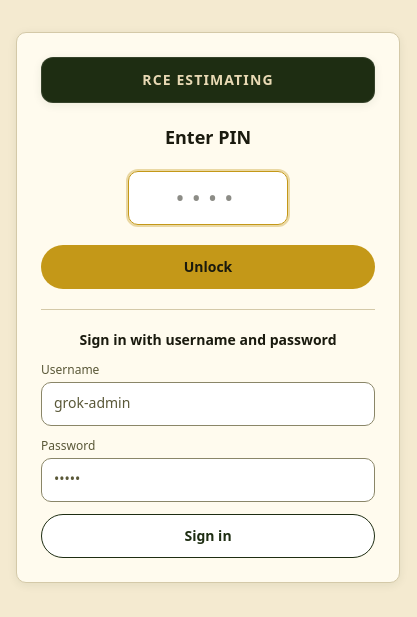
PinLoginPage: sign in with username and password (the AI admin's own login) › shows the server's message when the username or password is refused, and stores no token
Click the button "Sign in": (208, 536) [41,514,375,558]
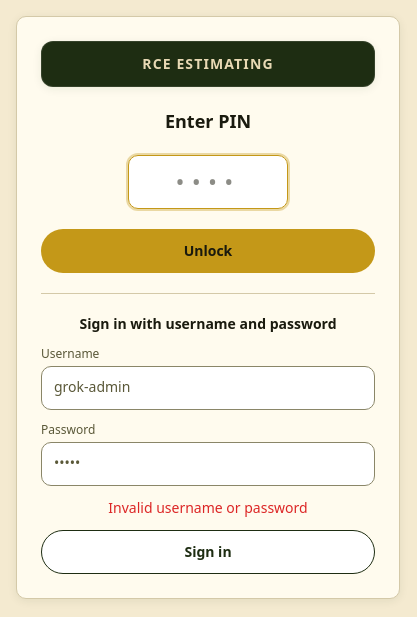
Expected: the text "Invalid username or password" is shown, [108,498,308,516]
